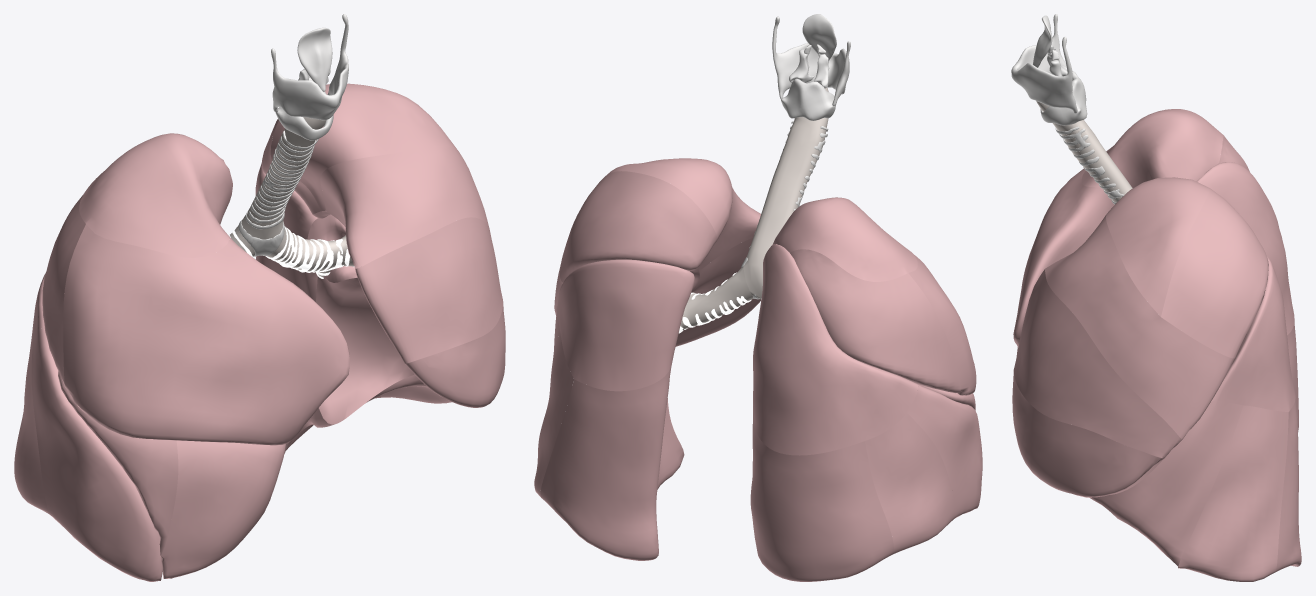
Rendered from respiratory-meshopt.glb.
3 views of the same model, side by side, from view 1: azimuth 30°, elevation 25°; view 2: azimuth 150°, elevation 25°; view 3: azimuth 270°, elevation 25° (orthographic). The views are drawn at different scales.
Visible parts, largest first — view 1: VH_F_right_anterior_bronchopulmonary_segm, VH_F_right_anterior_basal_bronchopulmonary_segment, VH_F_lingula_superior_bronchopulmonary_segment, VH_F_right_apical_bronchopulmonary_segment, VH_F_left_anterior_bronchopulmonary_segment, VH_F_right_medial_bronchopulmonary_segment, VH_F_left_apical_bronchopulmonary_segment, VH_F_left_medial_basal_bronchopulmonary_segment, VH_F_lingula_inferior_bronchopulmonary_segment, VH_F_right_lateral_bronchopulmonary_segmennt, VH_F_right_posterior_bronchopulmonary_segment, VH_F_thyroid_cartilage (+14 smaller); view 2: VH_F_right_superior_bronchopulmonary_segment, VH_F_left_posterior_basal_bronchopulmonary_segment, VH_F_right_posterior_basal_bronchopulmonary_segment, VH_F_left_superior_bronchopulmonary_segment, VH_F_right_posterior_bronchopulmonary_segment, VH_F_left_posterior_bronchopulmonary_segment, VH_F_right_lateral_basal_bronchopulmonary_segment, VH_F_right_apical_bronchopulmonary_segment, VH_F_right_anterior_basal_bronchopulmonary_segment, VH_F_trachea, VH_F_left_apical_bronchopulmonary_segment, VH_F_right_anterior_bronchopulmonary_segm (+9 smaller); view 3: VH_F_left_anterior_bronchopulmonary_segment, VH_F_lingula_superior_bronchopulmonary_segment, VH_F_left_lateral_basal_bronchopulmonary_segment, VH_F_left_posterior_bronchopulmonary_segment, VH_F_left_anterior_basal_bronchopulmonary_segment, VH_F_lingula_inferior_bronchopulmonary_segment, VH_F_left_apical_bronchopulmonary_segment, VH_F_right_apical_bronchopulmonary_segment, VH_F_left_superior_bronchopulmonary_segment, VH_F_right_anterior_bronchopulmonary_segm, VH_F_right_superior_bronchopulmonary_segment, VH_F_thyroid_cartilage (+7 smaller).
Boxes of the visible parts, x1,y1,x2,y2 form: VH_F_right_anterior_bronchopulmonary_segm: (63, 224, 349, 445); VH_F_right_anterior_basal_bronchopulmonary_segment: (31, 328, 162, 581); VH_F_lingula_superior_bronchopulmonary_segment: (355, 217, 503, 363); VH_F_right_apical_bronchopulmonary_segment: (79, 133, 232, 257); VH_F_left_anterior_bronchopulmonary_segment: (320, 146, 488, 268); VH_F_right_medial_bronchopulmonary_segment: (160, 440, 285, 578); VH_F_left_apical_bronchopulmonary_segment: (270, 83, 458, 211); VH_F_left_medial_basal_bronchopulmonary_segment: (316, 276, 414, 424); VH_F_lingula_inferior_bronchopulmonary_segment: (405, 304, 505, 407); VH_F_right_lateral_bronchopulmonary_segmennt: (58, 371, 178, 555); VH_F_right_posterior_bronchopulmonary_segment: (42, 195, 85, 386); VH_F_thyroid_cartilage: (271, 14, 348, 120); VH_F_right_superior_bronchopulmonary_segment: (753, 244, 918, 455); VH_F_left_posterior_basal_bronchopulmonary_segment: (540, 366, 684, 560); VH_F_right_posterior_basal_bronchopulmonary_segment: (750, 418, 893, 581); VH_F_left_superior_bronchopulmonary_segment: (557, 259, 694, 391); VH_F_right_posterior_bronchopulmonary_segment: (790, 249, 960, 392); VH_F_left_posterior_bronchopulmonary_segment: (560, 171, 716, 282); VH_F_right_lateral_basal_bronchopulmonary_segment: (865, 413, 955, 554); VH_F_right_apical_bronchopulmonary_segment: (772, 197, 917, 281); VH_F_right_anterior_basal_bronchopulmonary_segment: (907, 384, 982, 517); VH_F_trachea: (743, 87, 828, 298); VH_F_left_apical_bronchopulmonary_segment: (606, 158, 732, 240); VH_F_right_anterior_bronchopulmonary_segm: (908, 254, 976, 395); VH_F_left_anterior_bronchopulmonary_segment: (1045, 215, 1235, 439); VH_F_lingula_superior_bronchopulmonary_segment: (1013, 269, 1182, 458); VH_F_left_lateral_basal_bronchopulmonary_segment: (1178, 405, 1288, 581); VH_F_left_posterior_bronchopulmonary_segment: (1161, 188, 1268, 358); VH_F_left_anterior_basal_bronchopulmonary_segment: (1089, 400, 1243, 567); VH_F_lingula_inferior_bronchopulmonary_segment: (1012, 372, 1163, 497); VH_F_left_apical_bronchopulmonary_segment: (1106, 177, 1210, 316); VH_F_right_apical_bronchopulmonary_segment: (1081, 109, 1223, 187); VH_F_left_superior_bronchopulmonary_segment: (1211, 256, 1295, 412); VH_F_right_anterior_bronchopulmonary_segm: (1013, 168, 1114, 347); VH_F_right_superior_bronchopulmonary_segment: (1197, 162, 1294, 335); VH_F_thyroid_cartilage: (1011, 14, 1077, 113).
Bounding box in the file's own units: 0.2511 × 0.2968 × 0.1531.
